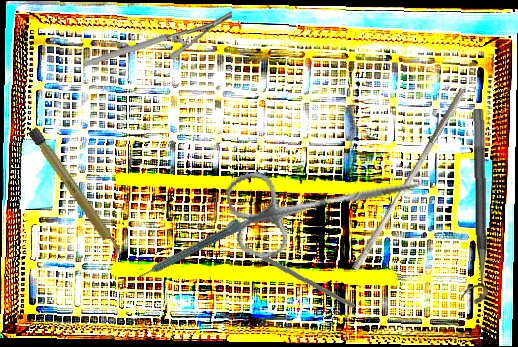Chopper: (237, 227, 356, 314)
Fixation Ring: (456, 108, 489, 305)
Handpiece: (134, 213, 250, 281)
Iris Scissors: (223, 138, 431, 264)
Needle Holder: (84, 8, 233, 70)
Pusher: (351, 83, 467, 275)
Scalpel Handle: (26, 125, 126, 261)
